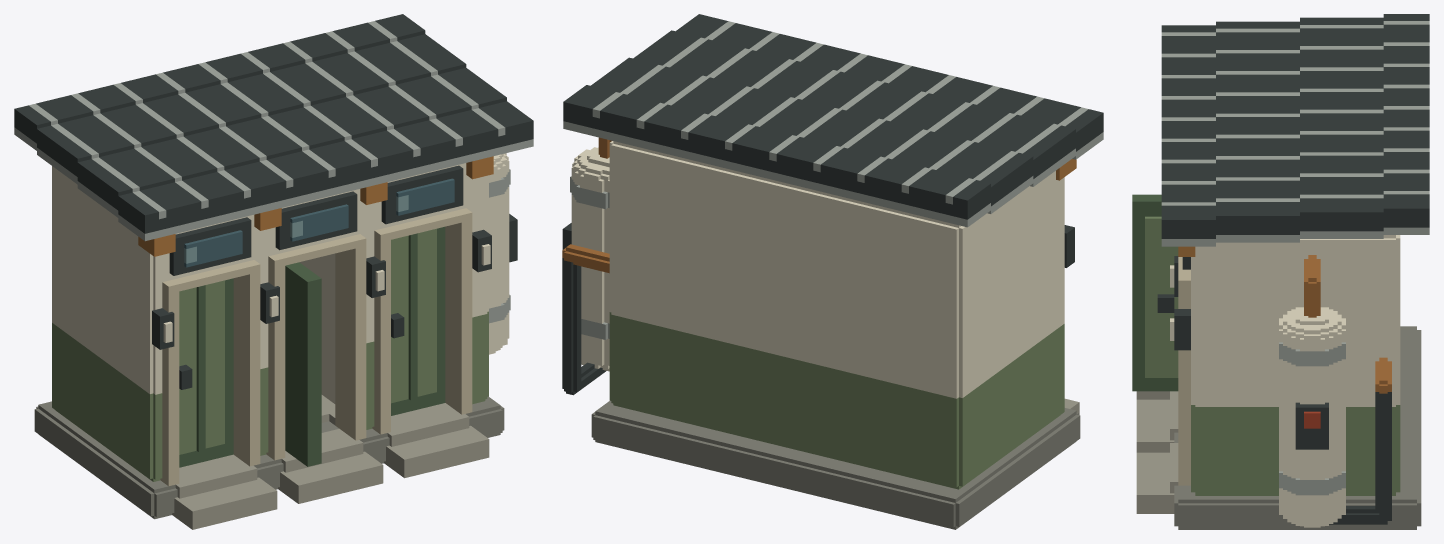
File: shower_block.glb
3 renders of one model, left to right at view 1: azimuth 30°, elevation 25°; view 2: azimuth 150°, elevation 25°; view 3: azimuth 270°, elevation 25°, orthographic. The views are drawn at different scales.
Visible parts, largest first — view 1: shower_block; view 2: shower_block; view 3: shower_block.
Part boxes in pixels (box(x1,y1,x2,y2)): shower_block: box(14, 14, 533, 529); shower_block: box(562, 14, 1103, 529); shower_block: box(1132, 14, 1429, 529).
Size of the model in its own units: 6.25 by 4.4 by 3.55.
